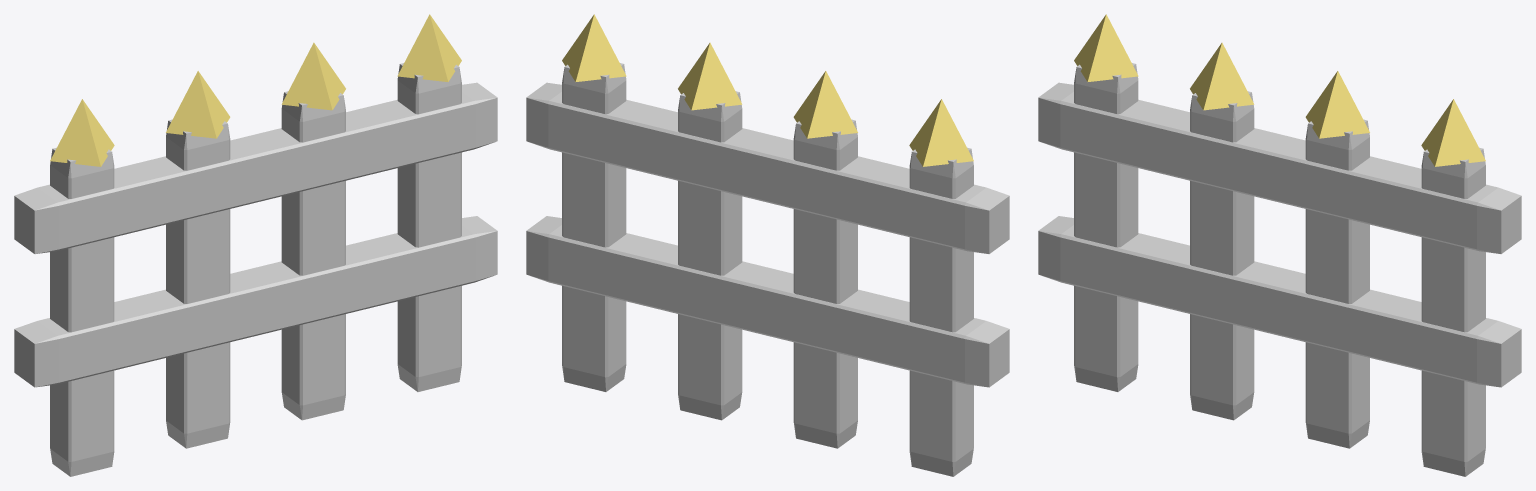
File: CF_FenceSection.fbx
3 views of the same model, side by side, from view 1: azimuth 30°, elevation 25°; view 2: azimuth 150°, elevation 25°; view 3: azimuth 330°, elevation 25° (orthographic).
Visible parts, largest first — view 1: CF_FenceSection_Wood, CF_FenceSection_Accent; view 2: CF_FenceSection_Wood, CF_FenceSection_Accent; view 3: CF_FenceSection_Wood, CF_FenceSection_Accent.
Part boxes in pixels (bbox=[...]): CF_FenceSection_Wood: bbox=[14, 63, 497, 476]; CF_FenceSection_Accent: bbox=[50, 14, 461, 166]; CF_FenceSection_Wood: bbox=[526, 63, 1009, 476]; CF_FenceSection_Accent: bbox=[562, 14, 973, 166]; CF_FenceSection_Wood: bbox=[1038, 63, 1521, 476]; CF_FenceSection_Accent: bbox=[1074, 14, 1485, 166].
Size of the model in its own units: 4 by 3.02 by 0.56.
